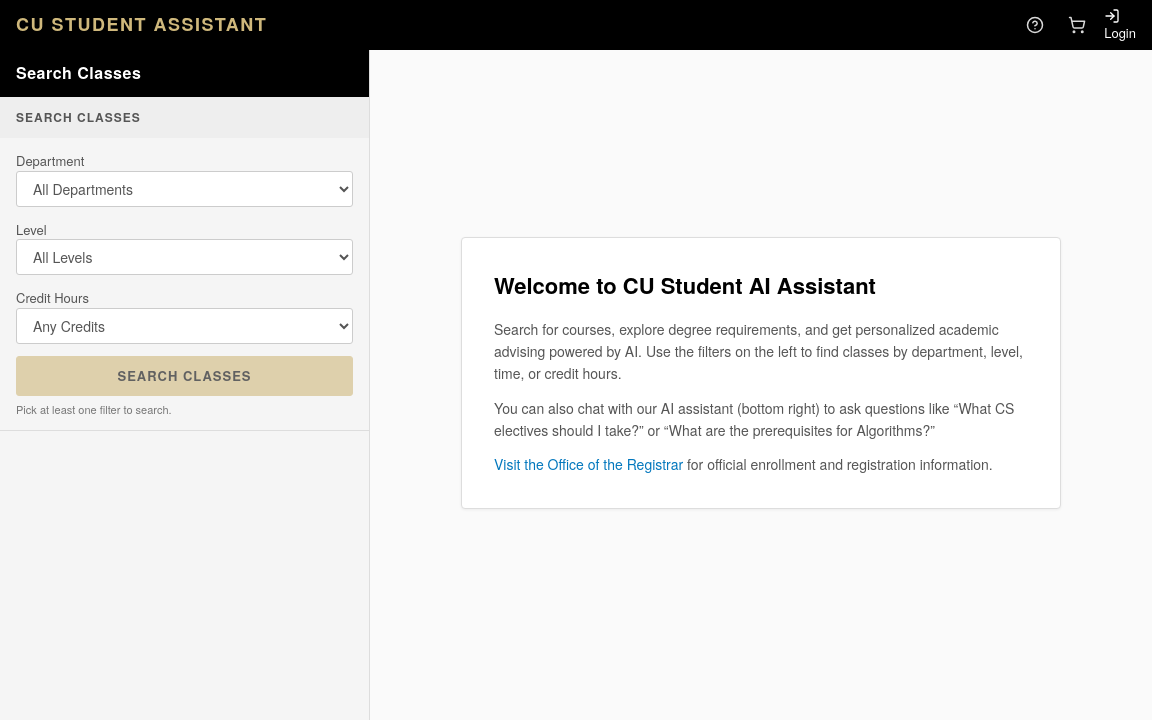
Test case: CourseSearchView › Prev is disabled on the first page, Next is enabled when more results exist
This screenshot has width=1152, height=720.
Step 1. Select "CSCI — Computer Science" in the dropdown with id "filter-dept" → [184, 188], box [16,170,353,206]
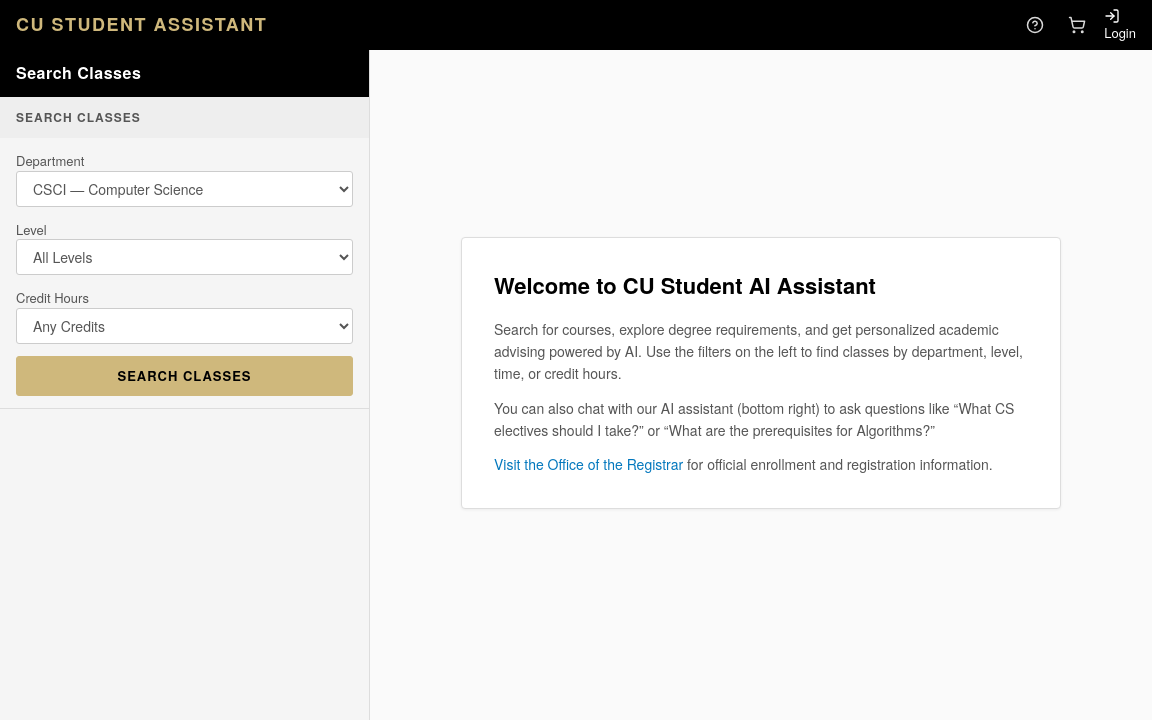
Step 2. Submit the form, box [0,97,369,409]
(page scrolled)
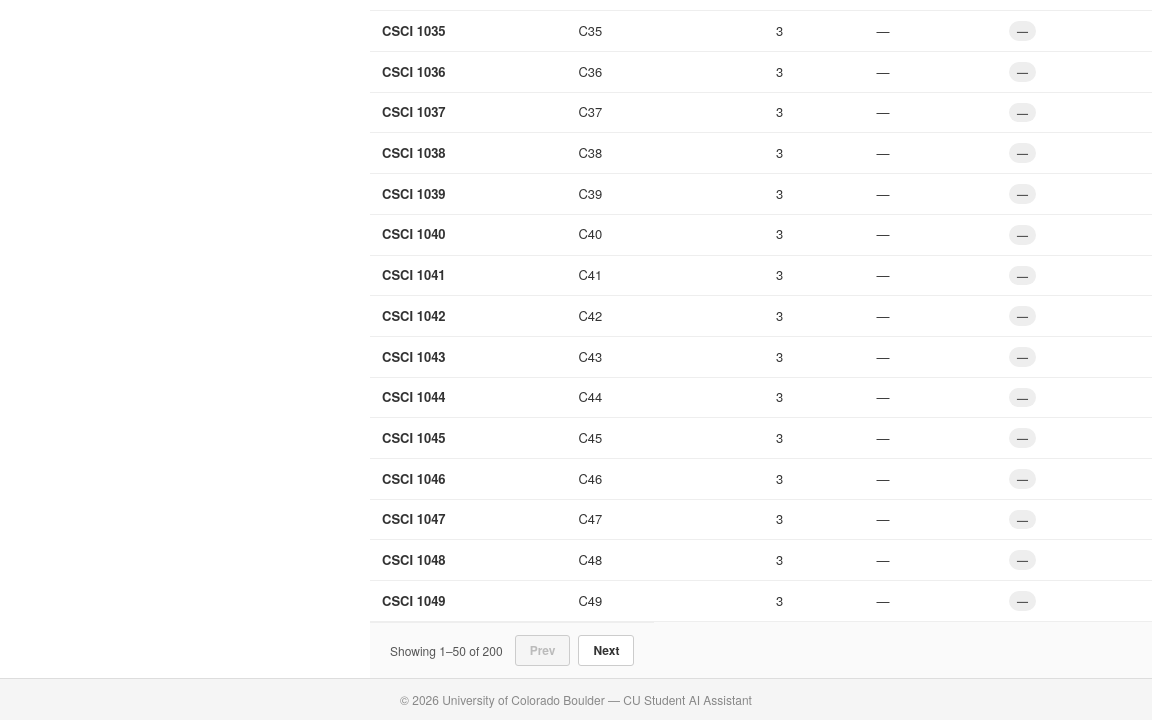
Now the button "Prev" is shown, box [515,635,570,666]
Now the button "Prev" is disabled, box [515,635,570,666]
Now the button "Next" is shown, box [578,635,634,666]
